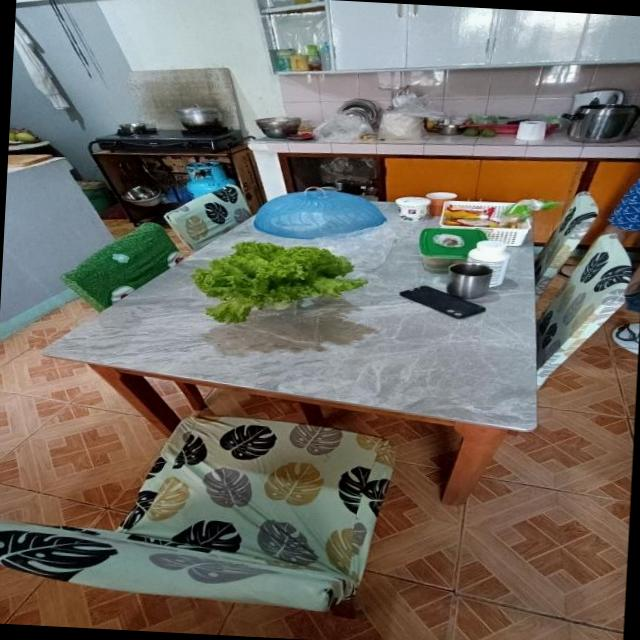Lettuce-Ready-to-Harvest: (191, 232, 368, 331)
